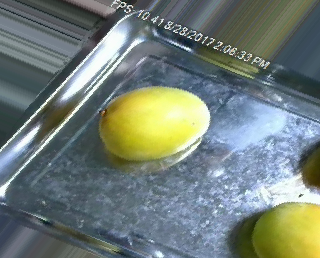Mango: (97, 82, 217, 162), (248, 200, 320, 257)
